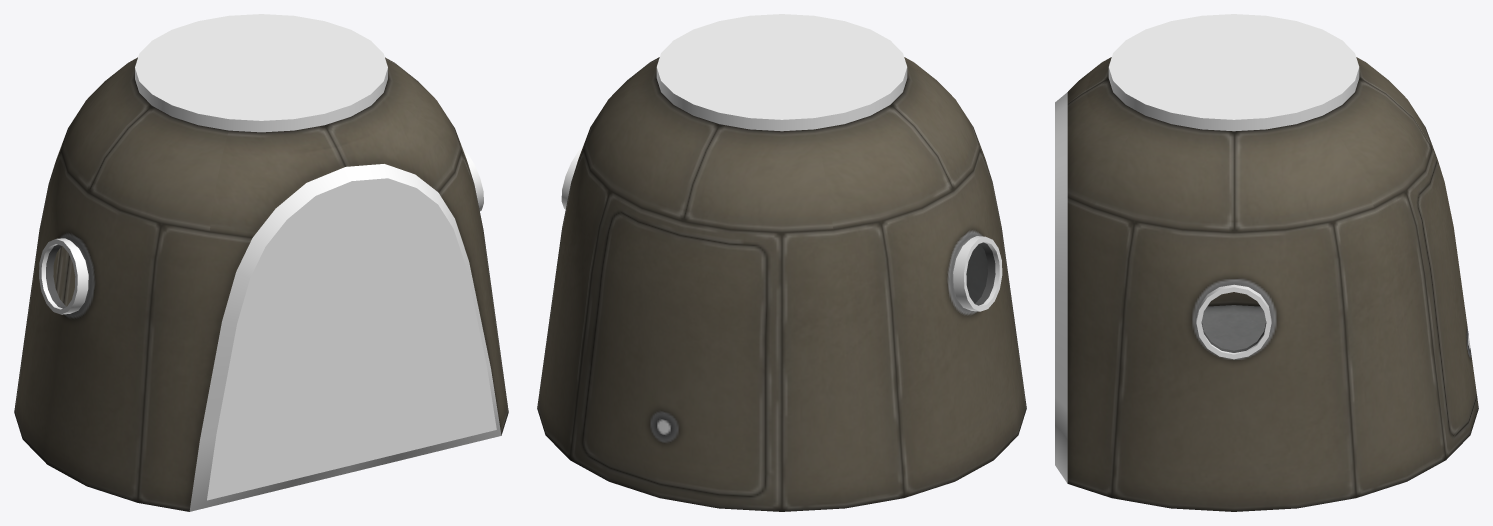
The model's file is Tantares_Crew_1_Interior.obj.
The picture shows the model from 3 angles, left to right: view 1: azimuth 30°, elevation 25°; view 2: azimuth 150°, elevation 25°; view 3: azimuth 270°, elevation 25°; orthographic projection.
Visible parts, largest first — view 1: Tantares_Crew_1_Interior_Mask, Tantares_Crew_1_Interior; view 2: Tantares_Crew_1_Interior, Tantares_Crew_1_Interior_Mask; view 3: Tantares_Crew_1_Interior, Tantares_Crew_1_Interior_Mask.
Part boxes in pixels (x1,y1,x2,y2): Tantares_Crew_1_Interior_Mask: (39, 14, 501, 511); Tantares_Crew_1_Interior: (14, 57, 508, 511); Tantares_Crew_1_Interior: (537, 57, 1026, 511); Tantares_Crew_1_Interior_Mask: (561, 14, 1002, 311); Tantares_Crew_1_Interior: (1067, 57, 1478, 511); Tantares_Crew_1_Interior_Mask: (1055, 14, 1359, 483).
Bounding box in the file's own units: 1.22 × 0.94 × 1.06.
